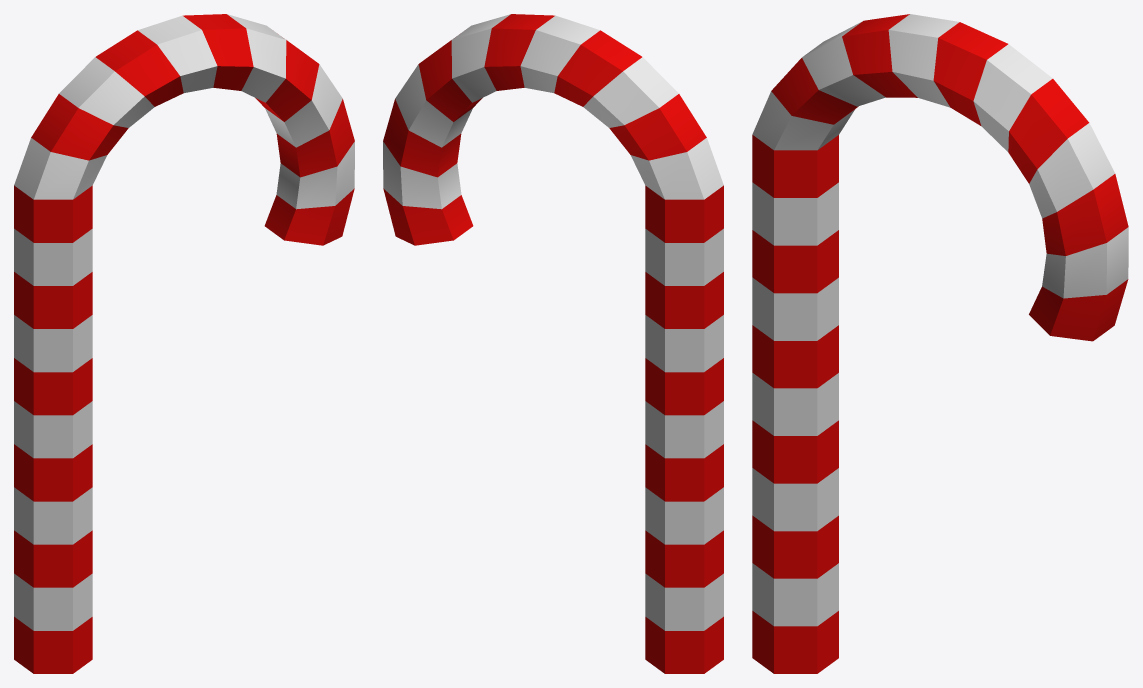
The model's file is Doce.fbx.
The picture shows the model from 3 angles, left to right: view 1: azimuth 30°, elevation 25°; view 2: azimuth 150°, elevation 25°; view 3: azimuth 330°, elevation 25°; orthographic projection. The views are drawn at different scales.
Parts seen in each view (by area): view 1: Cylinder; view 2: Cylinder; view 3: Cylinder.
Boxes of the visible parts, x1,y1,x2,y2 form: Cylinder: (14, 14, 354, 673); Cylinder: (383, 14, 723, 673); Cylinder: (752, 14, 1128, 673).
Bounding box in the file's own units: 253 × 453 × 53.59.
